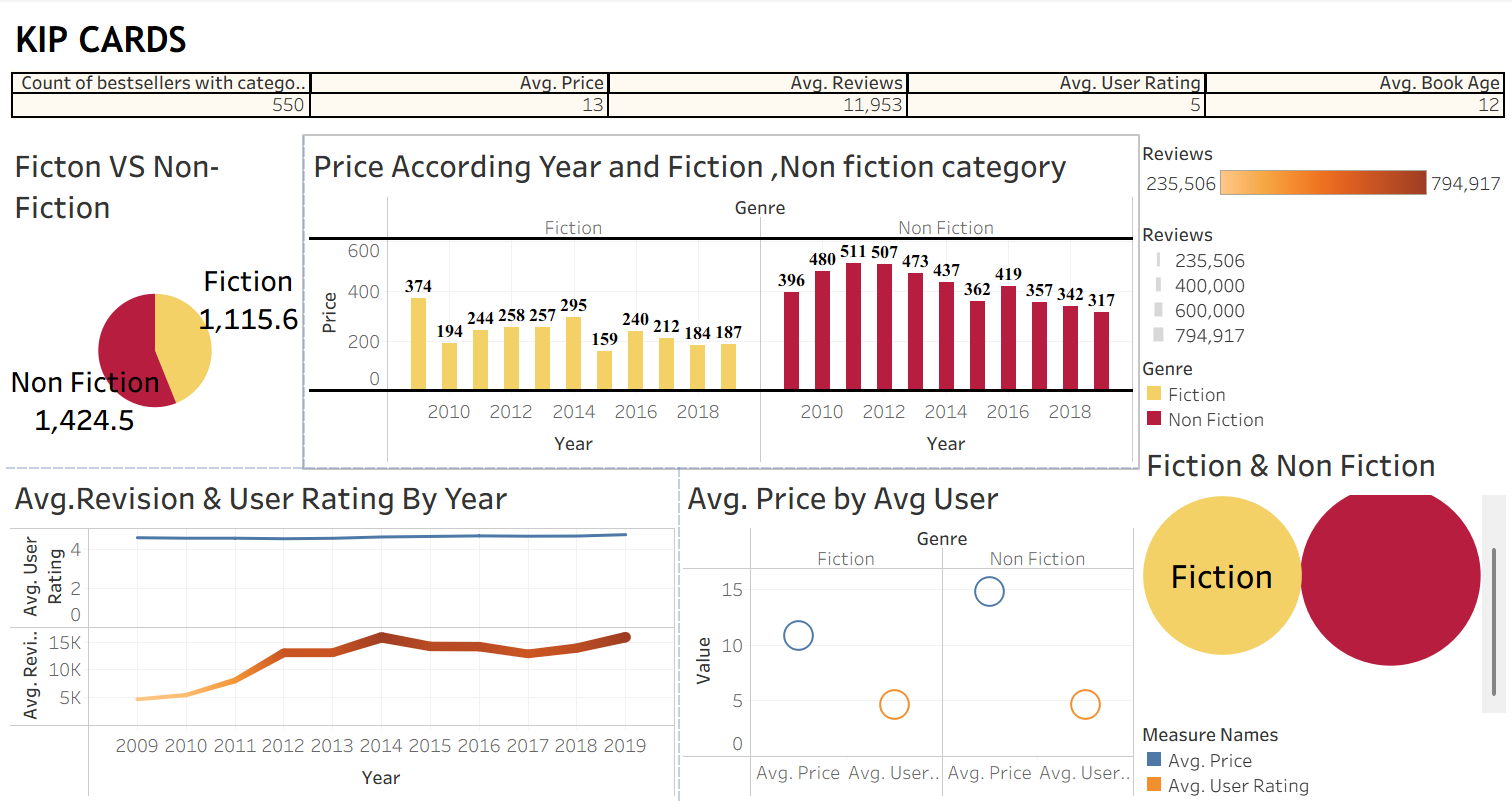

The dashboard page shown, as its layout file describes it:
{"tool":"tableau","page":{"name":"Dashboard 1","canvas":[1000,1000],"units":"permille","ordinal":0},"visuals":[{"type":"worksheet","title":"KPI's","mark":"Automatic","box":[5.3,9.9,989.5,156.1]},{"type":"worksheet","title":"Sheet 1","mark":"Pie","box":[5.3,166,196.1,412]},{"type":"worksheet","title":"Sheet 3","mark":"Bar","rows":["Price"],"cols":["Genre","Year"],"box":[201.3,166,548.7,412]},{"type":"legend","title":"Sheet 4","param":"[federated.1x72yk0147wo1l0zz1cn715tnmjj].[sum:Reviews:qk]","box":[750,166,244.7,100.4]},{"type":"legend","title":"Sheet 4","param":"[federated.1x72yk0147wo1l0zz1cn715tnmjj].[sum:Reviews:qk]","box":[750,266.4,244.7,166]},{"type":"legend","title":"Sheet 1","param":"[federated.1x72yk0147wo1l0zz1cn715tnmjj].[none:Genre:nk]","box":[750,432.4,244.7,104.1]},{"type":"worksheet","title":"Sheet 5","mark":"Circle","box":[750,536.5,244.7,349.5]},{"type":"worksheet","title":"Sheet 4","mark":"Automatic","rows":["User Rating","Reviews"],"cols":["Year"],"box":[5.3,578.1,442.8,412]},{"type":"worksheet","title":"Sheet 6","mark":"Shape","cols":["Genre"],"box":[448,578.1,302,412]},{"type":"legend","title":"Sheet 6","param":"[federated.1x72yk0147wo1l0zz1cn715tnmjj].[:Measure Names]","box":[750,886,244.7,104.1]}]}

Visuals, with their boxes on the dashboard's canvas, which has no fixed pixel size, in thousandths of its width and height (x1, y1, x2, y2). These are canvas units, not pixel positions in the 1512x808 screenshot, which may show the page scaled, cropped or inside an application window:
"KPI's" worksheet: (5, 10, 995, 166)
"Sheet 1" worksheet (Pie marks): (5, 166, 201, 578)
"Sheet 3" worksheet (Bar marks): (201, 166, 750, 578)
"Sheet 4" legend: (750, 166, 995, 266)
"Sheet 4" legend: (750, 266, 995, 432)
"Sheet 1" legend: (750, 432, 995, 536)
"Sheet 5" worksheet (Circle marks): (750, 536, 995, 886)
"Sheet 4" worksheet: (5, 578, 448, 990)
"Sheet 6" worksheet (Shape marks): (448, 578, 750, 990)
"Sheet 6" legend: (750, 886, 995, 990)
